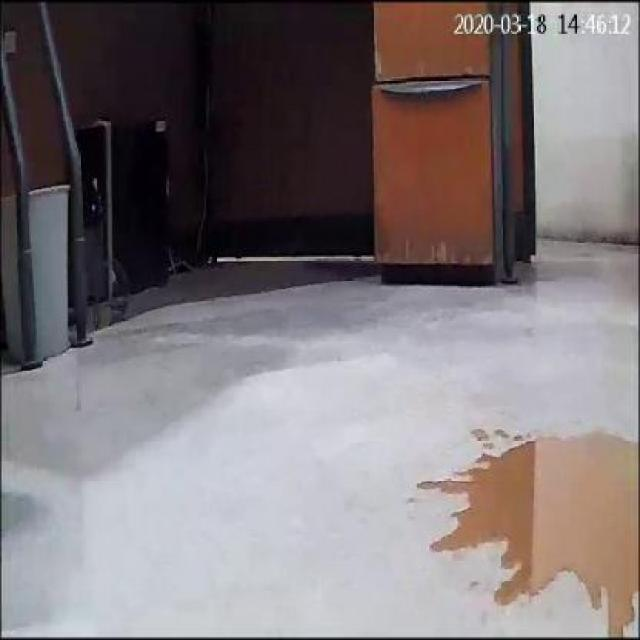spill: (420, 426, 634, 628)
